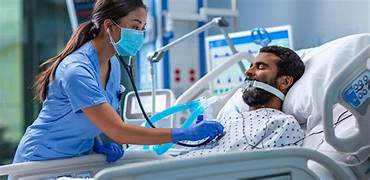Doctor: (88, 1, 154, 101)
patient: (240, 45, 300, 126)
